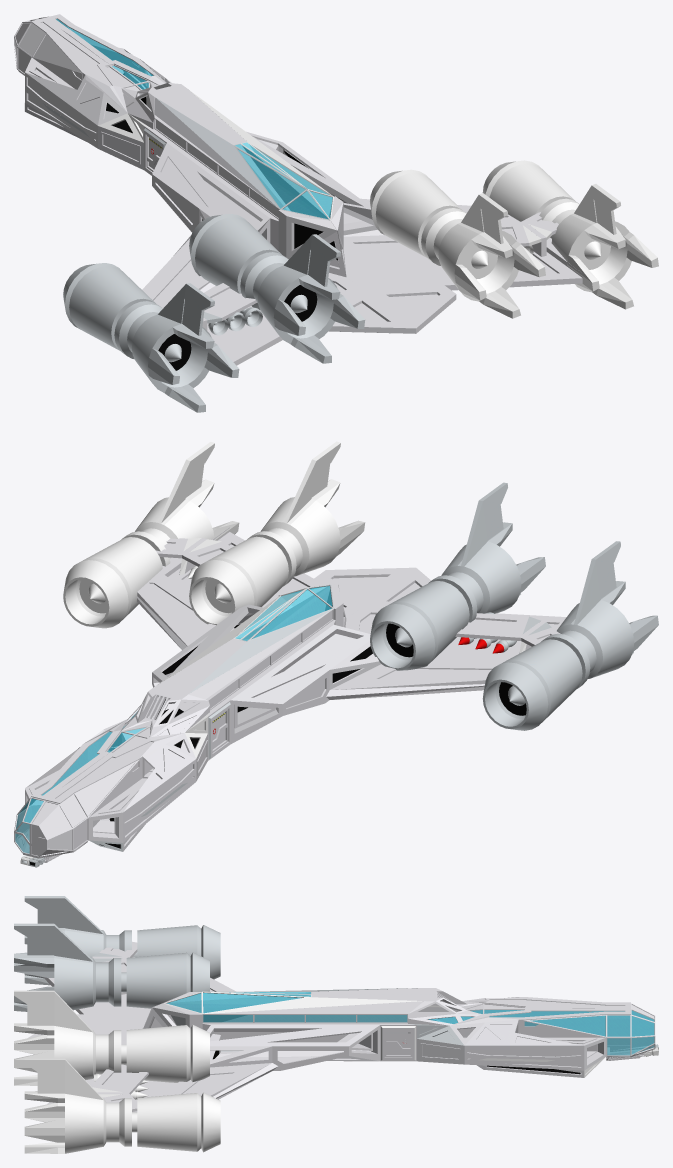
File: space_ship_mk2-transformed.glb
The picture shows the model from 3 angles, top to bottom: view 1: azimuth 30°, elevation 25°; view 2: azimuth 150°, elevation 25°; view 3: azimuth 270°, elevation 25°; orthographic projection. The views are drawn at different scales.
Visible parts, largest first — view 1: Material2 (×2), Material3; view 2: Material2 (×2), Material3; view 3: Material2 (×2), Material3.
Boxes of the visible parts, x1,y1,x2,y2 form: Material2 (×2): [14, 14, 658, 412]; Material3: [56, 19, 332, 218]; Material2 (×2): [14, 441, 658, 867]; Material3: [15, 586, 332, 853]; Material2 (×2): [14, 896, 658, 1153]; Material3: [167, 992, 654, 1055].
Size of the model in its own units: 2.81 by 0.7384 by 3.94.
3 materials, 3 textured.
